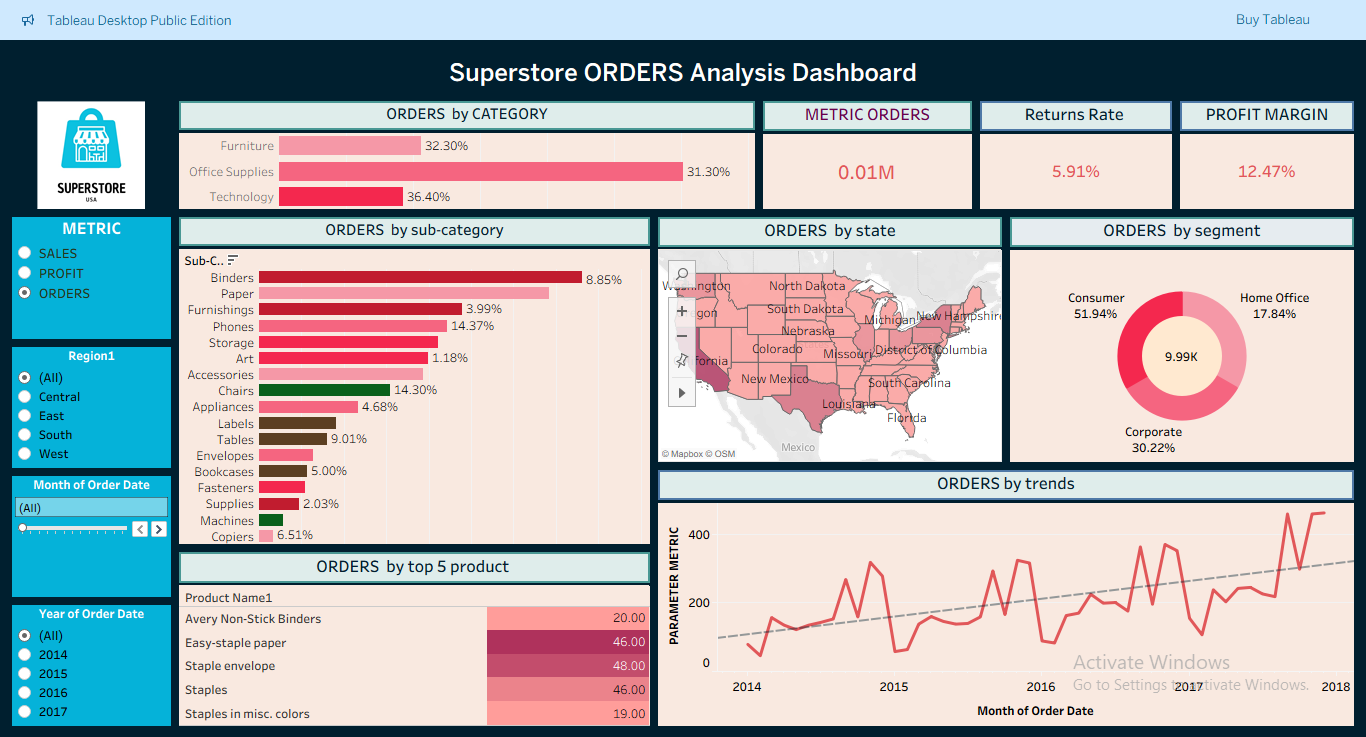

Layout of this report page (visuals, bound fields, positions):
{"tool":"tableau","page":{"name":"SAMPLE DASHBOARD","canvas":[1000,1000],"units":"permille","ordinal":1},"visuals":[{"type":"text","box":[6.9,14.5,986.1,70.4]},{"type":"image","param":"Image/image sam 1.jpg","box":[6.9,84.9,122.1,164.6]},{"type":"worksheet","title":"categ","mark":"Automatic","rows":["Category"],"cols":["Calculation_191684468491907076"],"box":[129,84.9,426.7,164.6]},{"type":"worksheet","title":"METRIC","mark":"Automatic","box":[555.6,84.9,158.5,164.6]},{"type":"worksheet","title":"return rate","mark":"Automatic","box":[714.1,84.9,146.3,164.6]},{"type":"worksheet","title":"profit margin","mark":"Automatic","box":[860.4,84.9,132.7,164.6]},{"type":"worksheet","title":"sub-cate","mark":"Automatic","rows":["Sub-Category"],"cols":["Calculation_191684468491907076"],"box":[129,249.5,349.6,476.4]},{"type":"worksheet","title":"state","mark":"Automatic","box":[478.6,249.5,257.1,360.4]},{"type":"worksheet","title":"seg DONUT","mark":"Pie","rows":["Calculation_191684468496130054","Calculation_191684468496142344"],"box":[735.6,249.5,257.4,360.4]},{"type":"parameter","param":"[Parameters].[Parameter 2]","box":[6.9,250,122.1,184.8]},{"type":"filter","title":"METRIC","param":"[federated.1fu1zzt0jwgsg214un93210rbnlb].[none:Region:nk]","box":[6.9,434.8,122.1,184.8]},{"type":"worksheet","title":"trend ","mark":"Automatic","rows":["Calculation_191684468491907076"],"cols":["Order Date"],"box":[478.6,609.9,514.5,375.6]},{"type":"filter","title":"METRIC","param":"[federated.1fu1zzt0jwgsg214un93210rbnlb].[mn:Order Date:ok]","box":[6.9,619.6,122.1,183]},{"type":"worksheet","title":"product","mark":"Square","rows":["Product Name"],"box":[129,726,349.6,259.5]},{"type":"filter","title":"METRIC","param":"[federated.1fu1zzt0jwgsg214un93210rbnlb].[yr:Order Date:ok]","box":[6.9,802.5,122.1,183]}]}

Visuals, with their boxes on the dashboard's canvas, which has no fixed pixel size, in thousandths of its width and height (x1, y1, x2, y2). These are canvas units, not pixel positions in the 1366x737 screenshot, which may show the page scaled, cropped or inside an application window:
text: 7 14 993 85
image: 7 85 129 250
"categ" worksheet: 129 85 556 250
"METRIC" worksheet: 556 85 714 250
"return rate" worksheet: 714 85 860 250
"profit margin" worksheet: 860 85 993 250
"sub-cate" worksheet: 129 250 479 726
"state" worksheet: 479 250 736 610
"seg DONUT" worksheet (Pie marks): 736 250 993 610
parameter: 7 250 129 435
"METRIC" filter: 7 435 129 620
"trend " worksheet: 479 610 993 986
"METRIC" filter: 7 620 129 803
"product" worksheet (Square marks): 129 726 479 986
"METRIC" filter: 7 802 129 986
